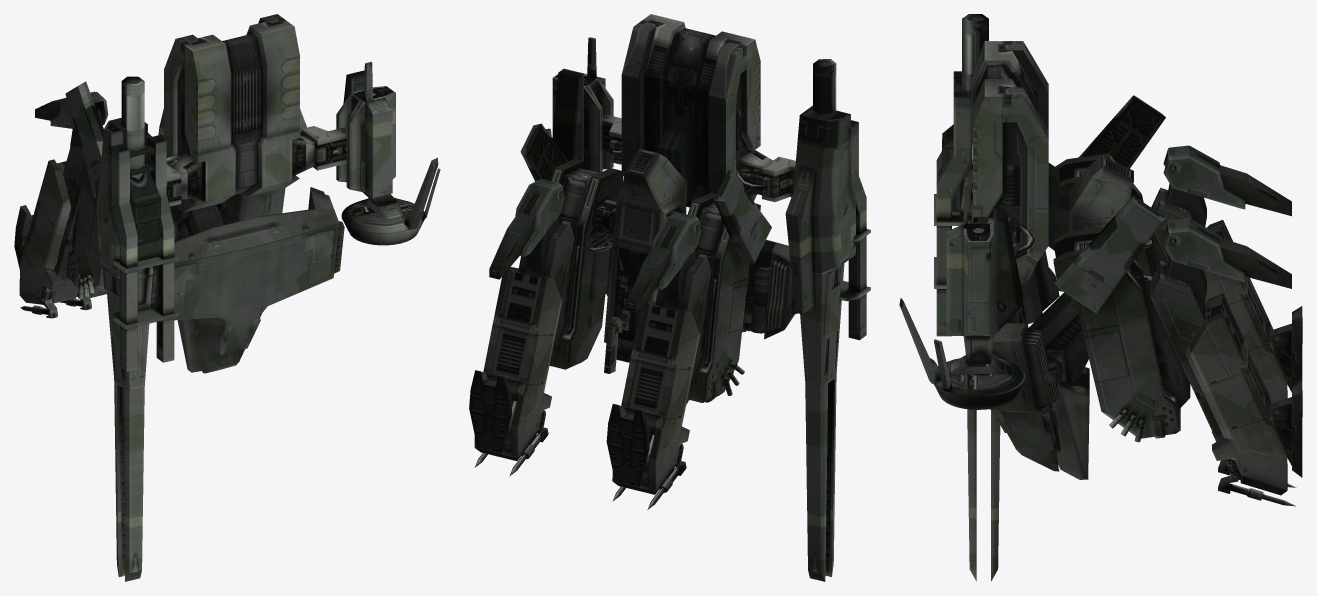
The model's file is rex.gltf.
3 views of the same model, side by side, from view 1: azimuth 30°, elevation 25°; view 2: azimuth 150°, elevation 25°; view 3: azimuth 270°, elevation 25° (orthographic). The views are drawn at different scales.
Parts seen in each view (by area): view 1: polygon173, polygon6, polygon206, polygon188, polygon337, polygon197, polygon194, polygon234, polygon142, polygon245, polygon152, polygon257 (+16 smaller); view 2: polygon174, polygon194, polygon337, polygon300, polygon76, polygon112, polygon142, polygon188, polygon173, polygon203, polygon152, polygon299 (+29 smaller); view 3: polygon112, polygon173, polygon300, polygon111, polygon239, polygon6, polygon337, polygon206, polygon262, polygon174, polygon76, polygon71 (+24 smaller).
Boxes of the visible parts, bbox=[...] form: polygon173: bbox=[164, 26, 299, 212]; polygon6: bbox=[150, 190, 344, 373]; polygon206: bbox=[111, 135, 174, 371]; polygon188: bbox=[114, 379, 144, 581]; polygon337: bbox=[19, 159, 78, 303]; polygon197: bbox=[104, 118, 160, 390]; polygon194: bbox=[96, 128, 129, 390]; polygon234: bbox=[365, 97, 392, 197]; polygon142: bbox=[66, 133, 151, 297]; polygon245: bbox=[336, 92, 365, 192]; polygon152: bbox=[65, 81, 103, 196]; polygon257: bbox=[341, 198, 424, 233]; polygon174: bbox=[621, 14, 754, 207]; polygon194: bbox=[793, 114, 855, 385]; polygon337: bbox=[612, 300, 699, 491]; polygon300: bbox=[474, 267, 562, 458]; polygon76: bbox=[604, 148, 686, 362]; polygon112: bbox=[549, 159, 623, 369]; polygon142: bbox=[687, 192, 760, 402]; polygon188: bbox=[805, 375, 836, 581]; polygon173: bbox=[685, 26, 760, 200]; polygon203: bbox=[785, 167, 814, 314]; polygon152: bbox=[714, 169, 771, 263]; polygon299: bbox=[469, 370, 512, 453]; polygon112: bbox=[1053, 227, 1180, 438]; polygon173: bbox=[973, 42, 1048, 284]; polygon300: bbox=[1185, 293, 1287, 490]; polygon111: bbox=[1054, 195, 1165, 313]; polygon239: bbox=[963, 208, 1022, 335]; polygon6: bbox=[990, 270, 1059, 471]; polygon337: bbox=[1204, 220, 1287, 402]; polygon206: bbox=[936, 71, 970, 336]; polygon262: bbox=[1151, 260, 1224, 442]; polygon174: bbox=[984, 41, 1048, 138]; polygon76: bbox=[1068, 156, 1138, 310]; polygon71: bbox=[1049, 367, 1089, 479].
Bounding box in the file's own units: 0.0158 × 0.0243 × 0.0155.
44 materials, 43 textured.
